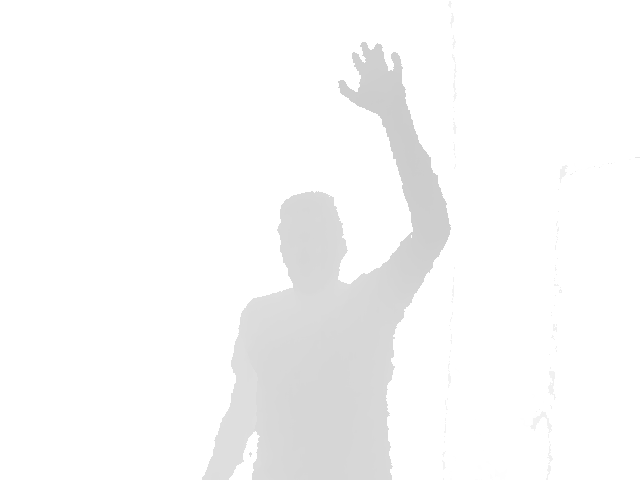hand: (337, 40, 413, 115)
head: (277, 190, 348, 286)
person: (198, 40, 452, 479)
